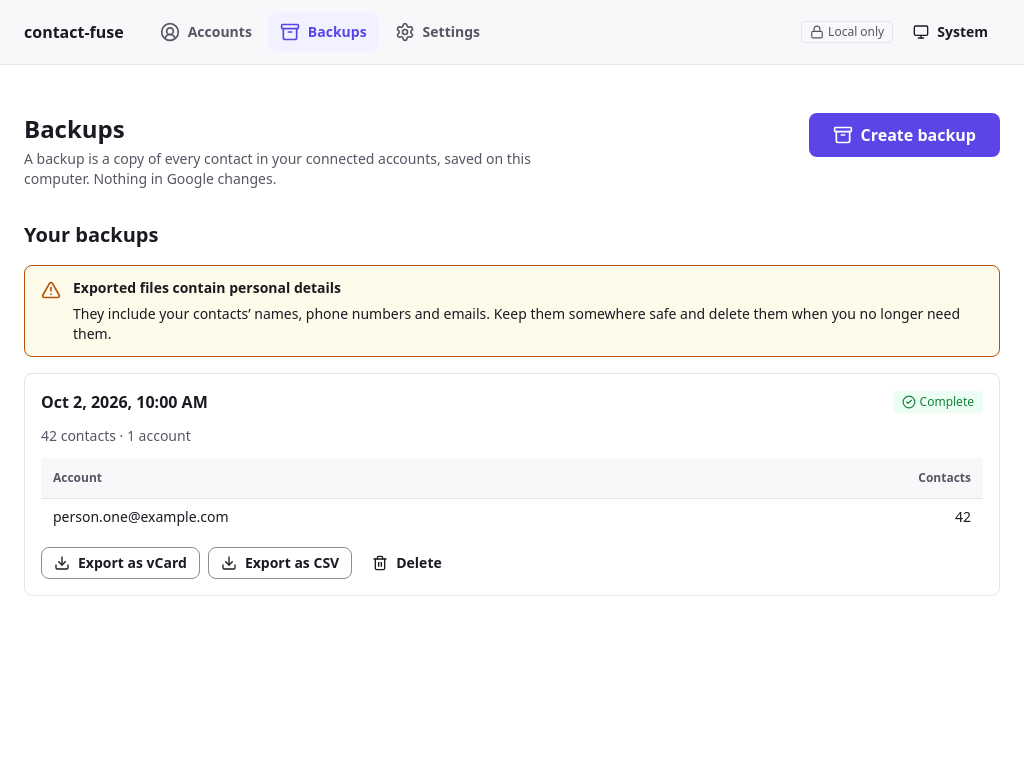
Test: BackupsPage › deletes a backup only after confirmation
Click the button with aria-label "Delete backup from". click: (407, 562)
box: left=360, top=546, right=454, bottom=578
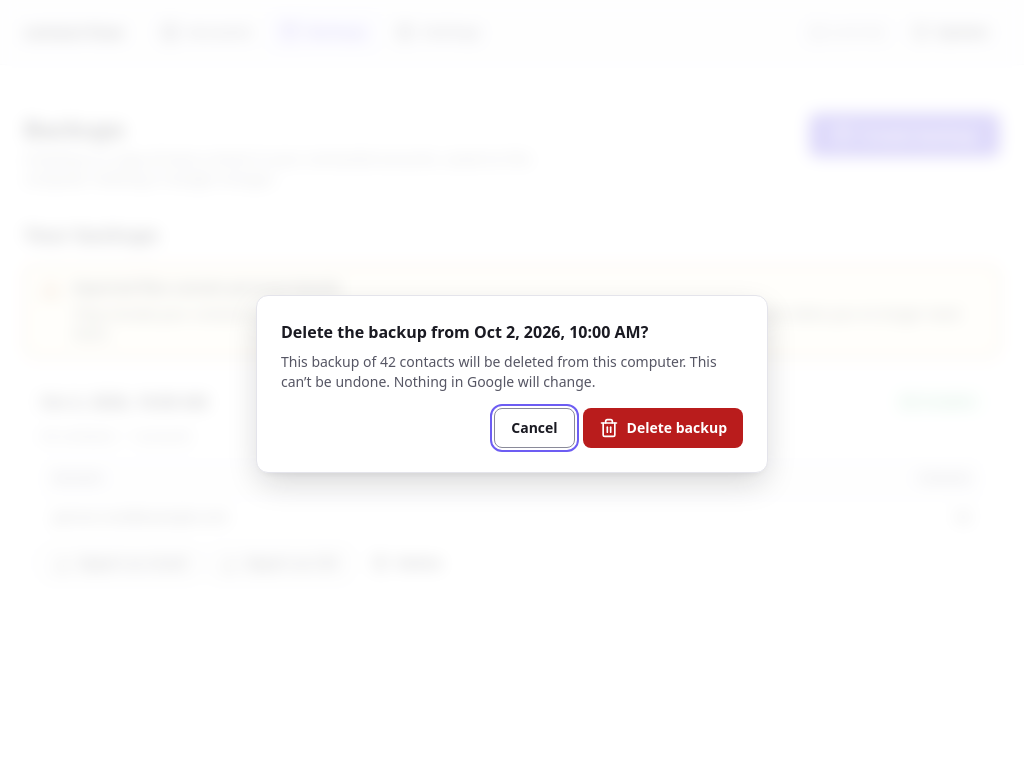
Expected: the dialog shows "This backup of 42 contacts will be deleted", left=281, top=352, right=690, bottom=371
Click the button "Cancel". click: (534, 428)
box: left=494, top=408, right=575, bottom=448
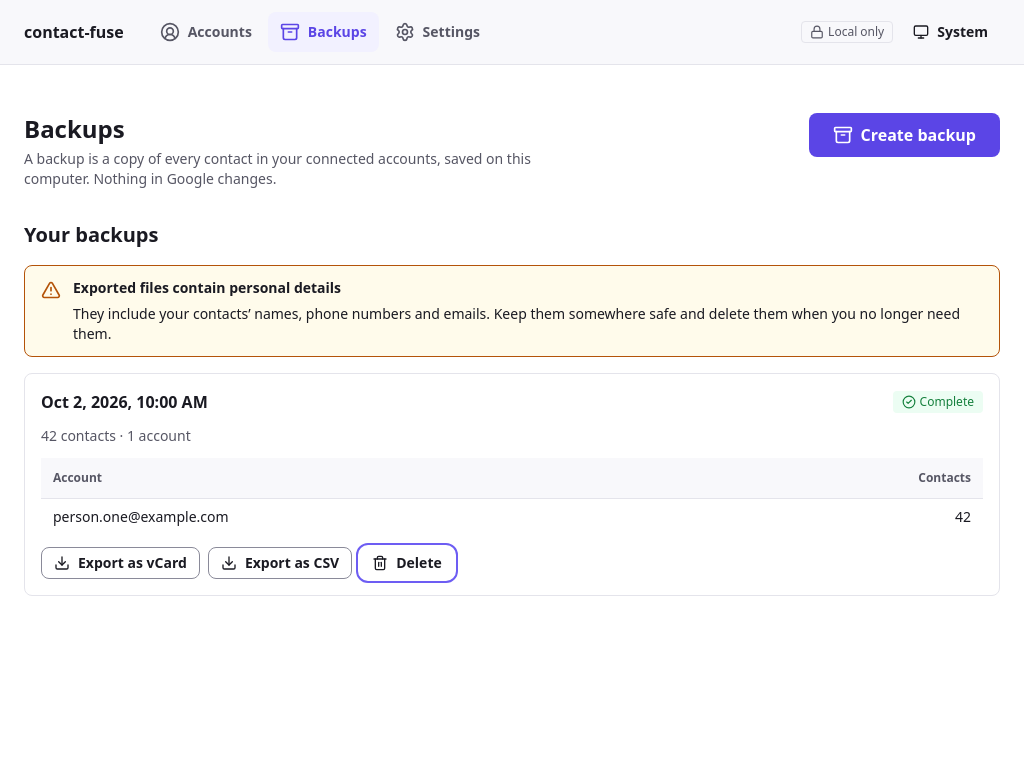
Click the button with aria-label "Delete backup from". click: (407, 562)
box: left=360, top=546, right=454, bottom=578
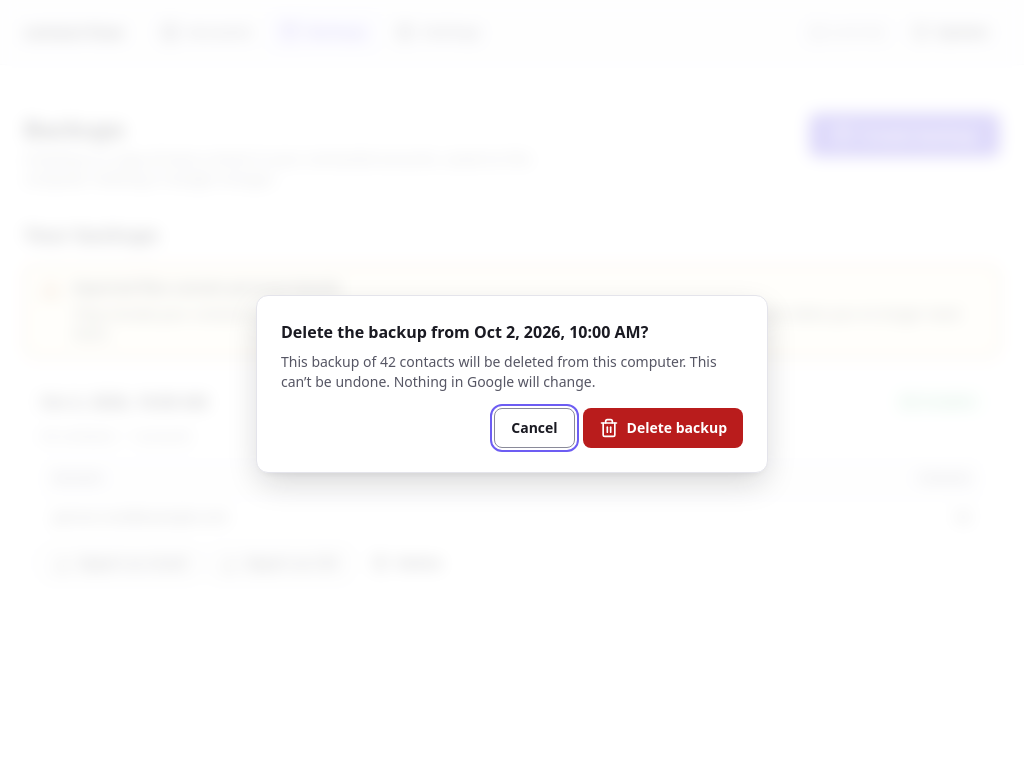
Click the button "Delete backup". click: (663, 428)
box: left=583, top=408, right=743, bottom=448
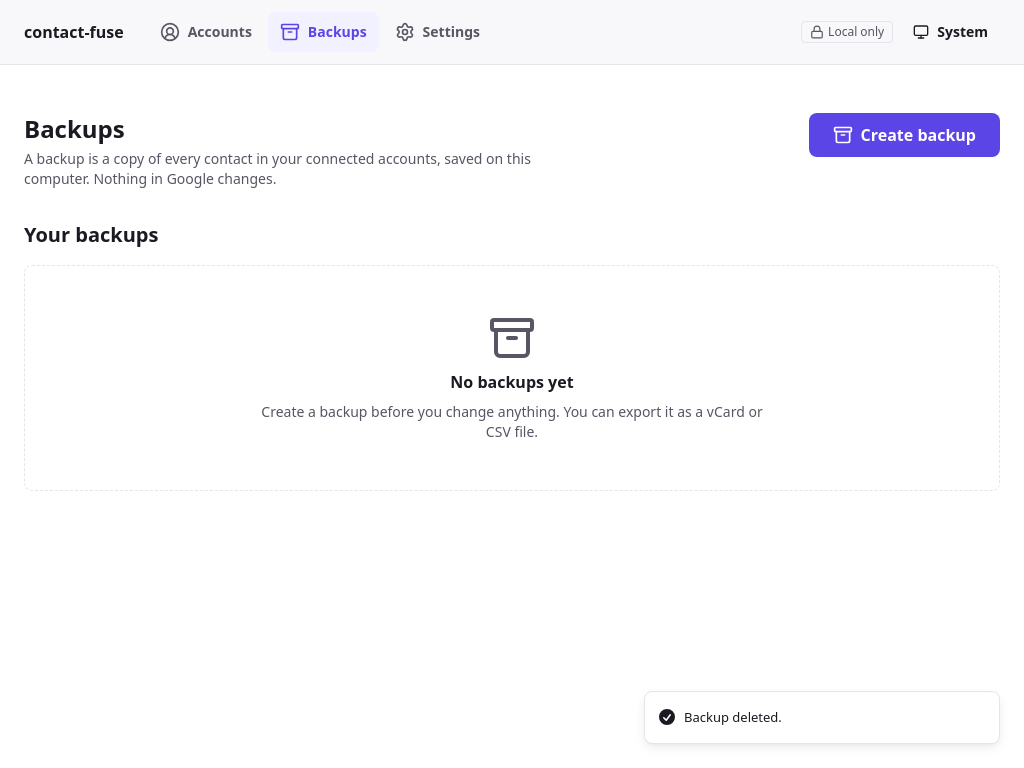
Expected: the heading "No backups yet" is shown, left=450, top=370, right=574, bottom=394
